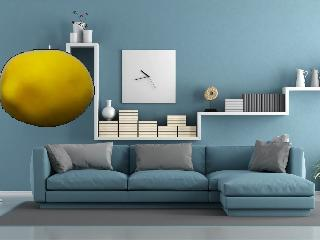lemon: (0, 49, 94, 127)
